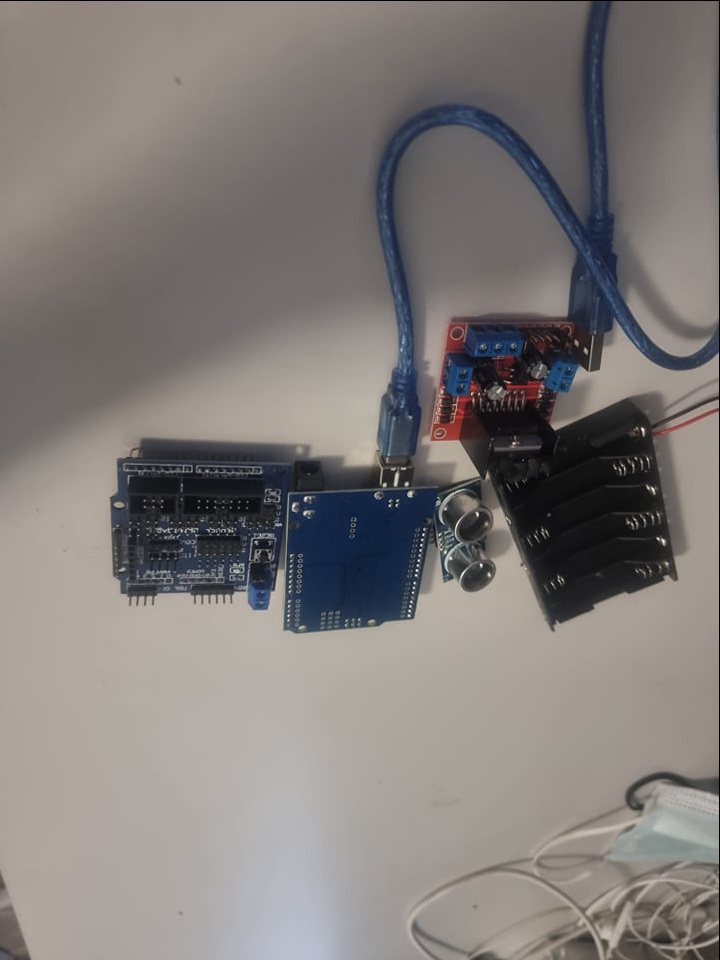5V EXPANSION: (105, 450, 288, 609)
BATTERY BOX: (511, 397, 660, 640)
MOTOR: (436, 307, 593, 474)
